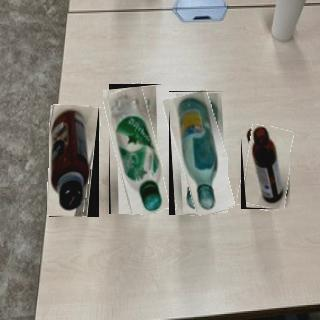bottle: (168, 91, 228, 216), (108, 84, 163, 215), (48, 105, 99, 218), (240, 126, 290, 210)
